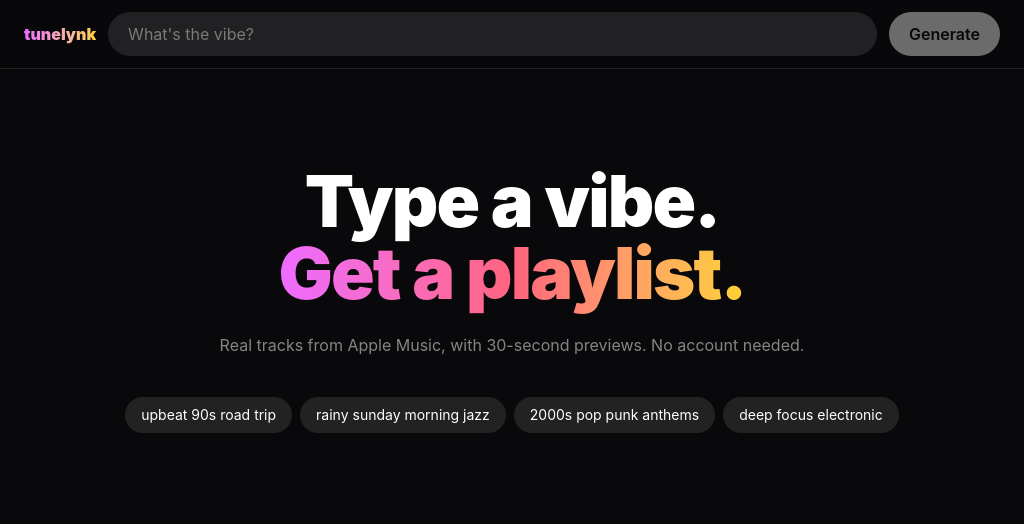
Test case: Landing › shows the 503 message
Step 1. Type "p" into the field named "Describe a playlist" → point(492, 34), box [108,12,877,56]
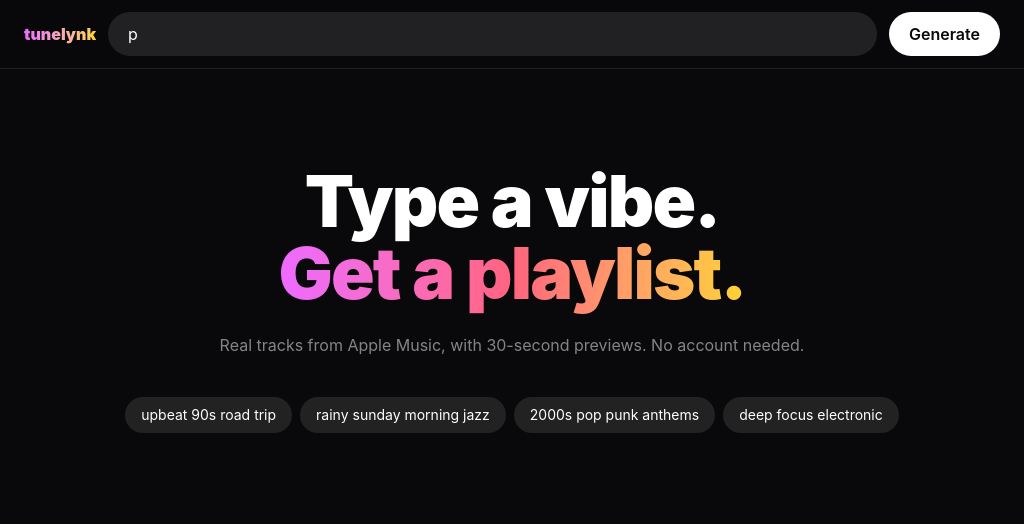
Step 2. Click the button "Generate" → point(944, 34), box [889,12,1000,56]
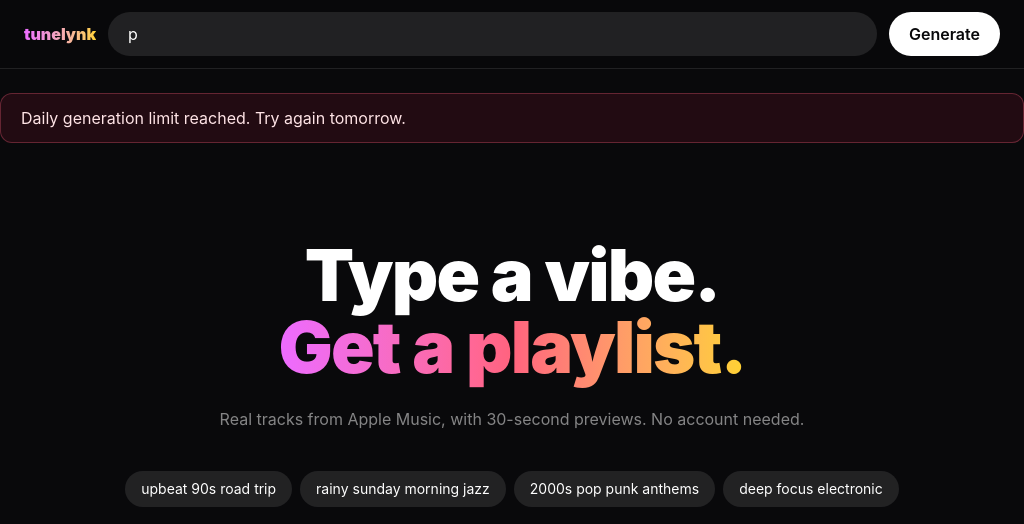
Check: the message reads "Daily generation limit reached. Try again tomorrow.", box [21,108,406,128]
